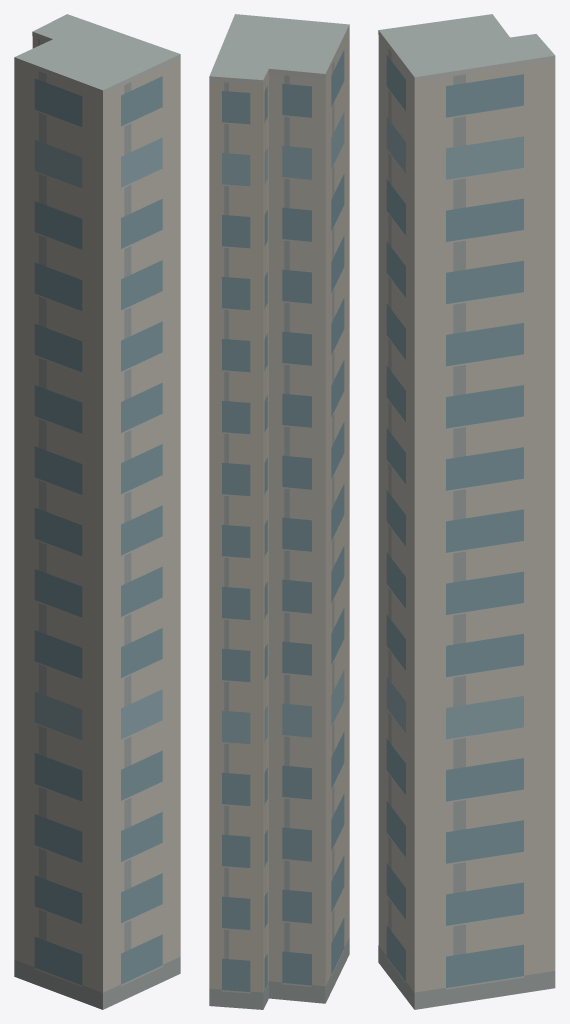
Rendered from survey-upis-32632145.glb.
3 renders of one model, left to right at view 1: azimuth 30°, elevation 25°; view 2: azimuth 150°, elevation 25°; view 3: azimuth 270°, elevation 25°, orthographic.
Parts seen in each view (by area): view 1: survey-upis-32632145.tmp; view 2: survey-upis-32632145.tmp; view 3: survey-upis-32632145.tmp.
Boxes of the visible parts, x1=… form: survey-upis-32632145.tmp: x1=14, y1=14, x2=180, y2=1009; survey-upis-32632145.tmp: x1=209, y1=14, x2=349, y2=1009; survey-upis-32632145.tmp: x1=378, y1=14, x2=555, y2=1009.
Size of the model in its own units: 6.67 by 45.75 by 7.87.
